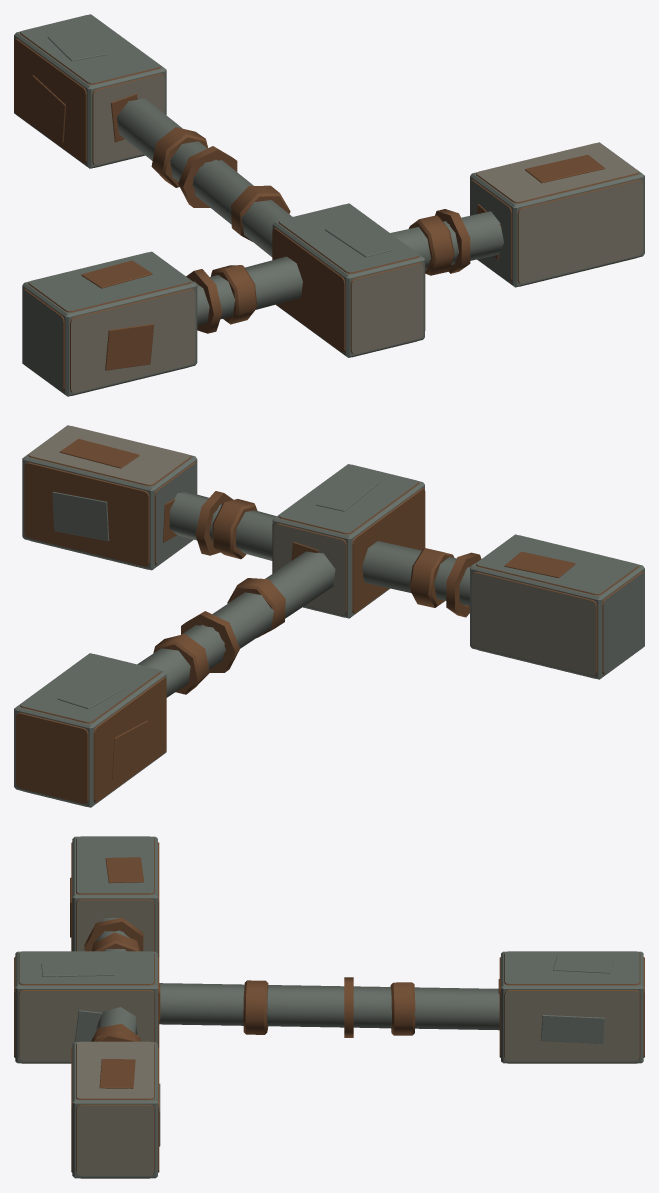
File: R4C_ROD_T.fbx
3 views of the same model, one above another, from view 1: azimuth 30°, elevation 25°; view 2: azimuth 150°, elevation 25°; view 3: azimuth 270°, elevation 25° (orthographic). The views are drawn at different scales.
Parts seen in each view (by area): view 1: R4C_ROD_T; view 2: R4C_ROD_T; view 3: R4C_ROD_T.
Boxes of the visible parts, box(x1,y1,x2,y2) form: R4C_ROD_T: box(14, 14, 644, 396); R4C_ROD_T: box(14, 425, 644, 807); R4C_ROD_T: box(14, 836, 644, 1178).
Bounding box in the file's own units: 1.62 × 0.232 × 1.62.
